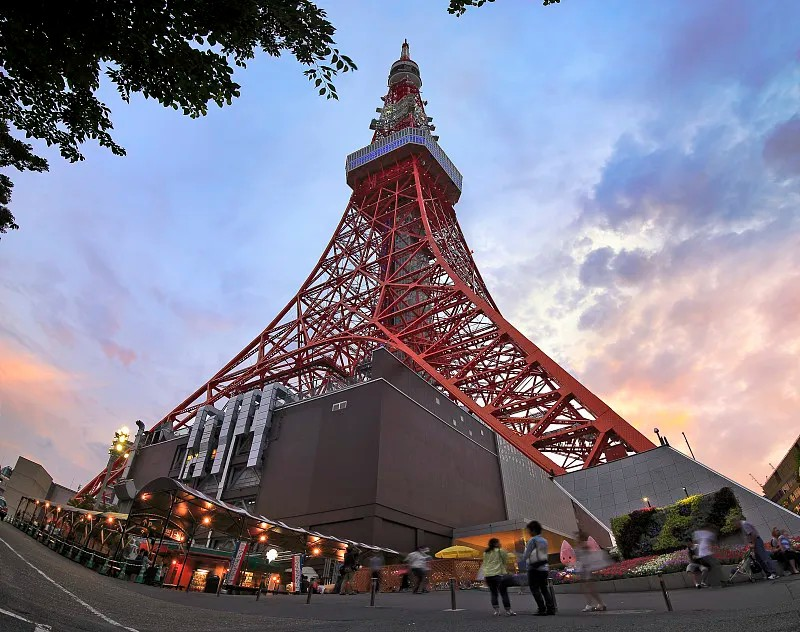Tokyo: (103, 36, 660, 475)
